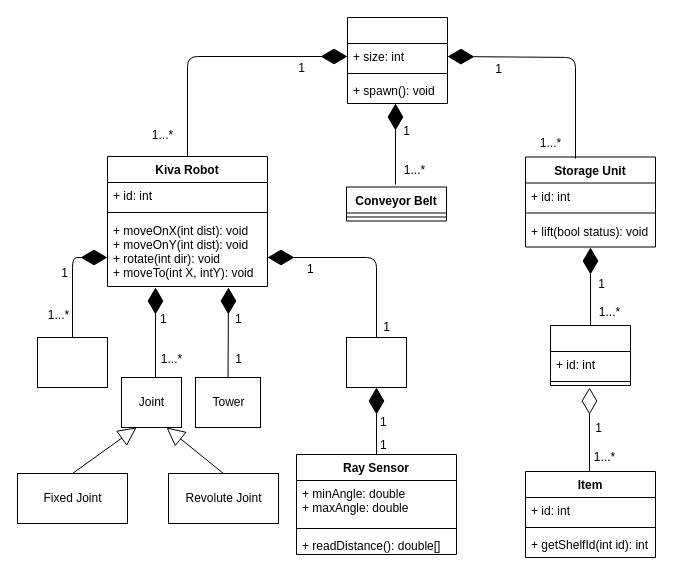
Some shapes in this 673 by 578 pixel diagram are drawn without their labels. The shapes that lost their labels are listed below. From the top down, each one's box as (x1, y1, x2, y2) in pixels, then its label:
(346, 16, 448, 104): Warehouse
(36, 336, 108, 388): Wheel
(346, 336, 406, 388): Chassis
(550, 324, 630, 386): Shelf
